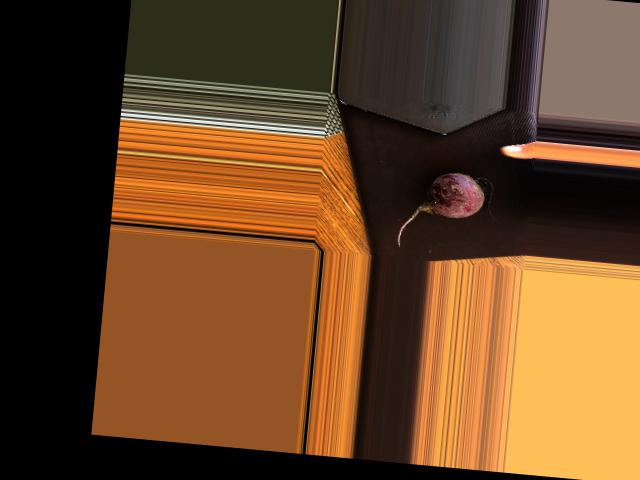beet: (396, 167, 501, 254)
